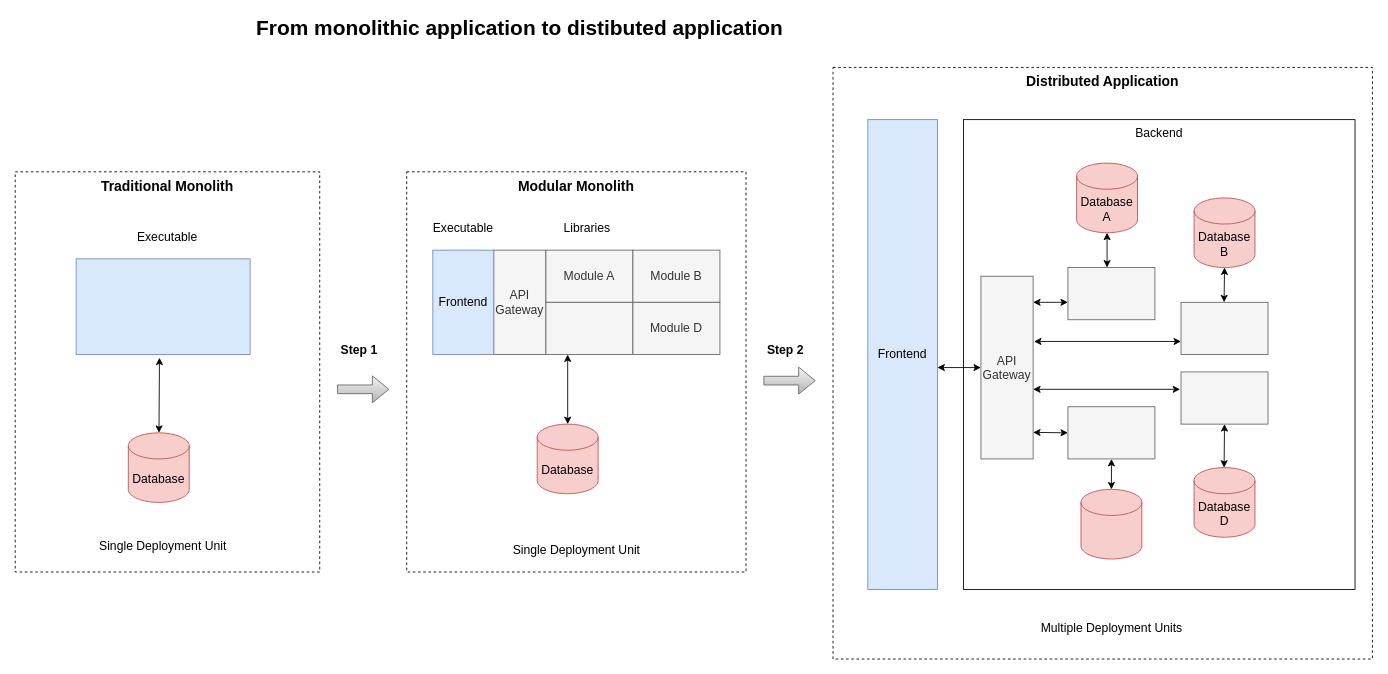
Image size: 1388x674. Some labels were removed from this diagram. Each missing label, with the centre of its shape:
Application: [162,306]
Database C: [1111,524]
Module C: [589,328]
Service A: [1111,293]
Service B: [1224,328]
Service C: [1111,432]
Service D: [1224,397]
